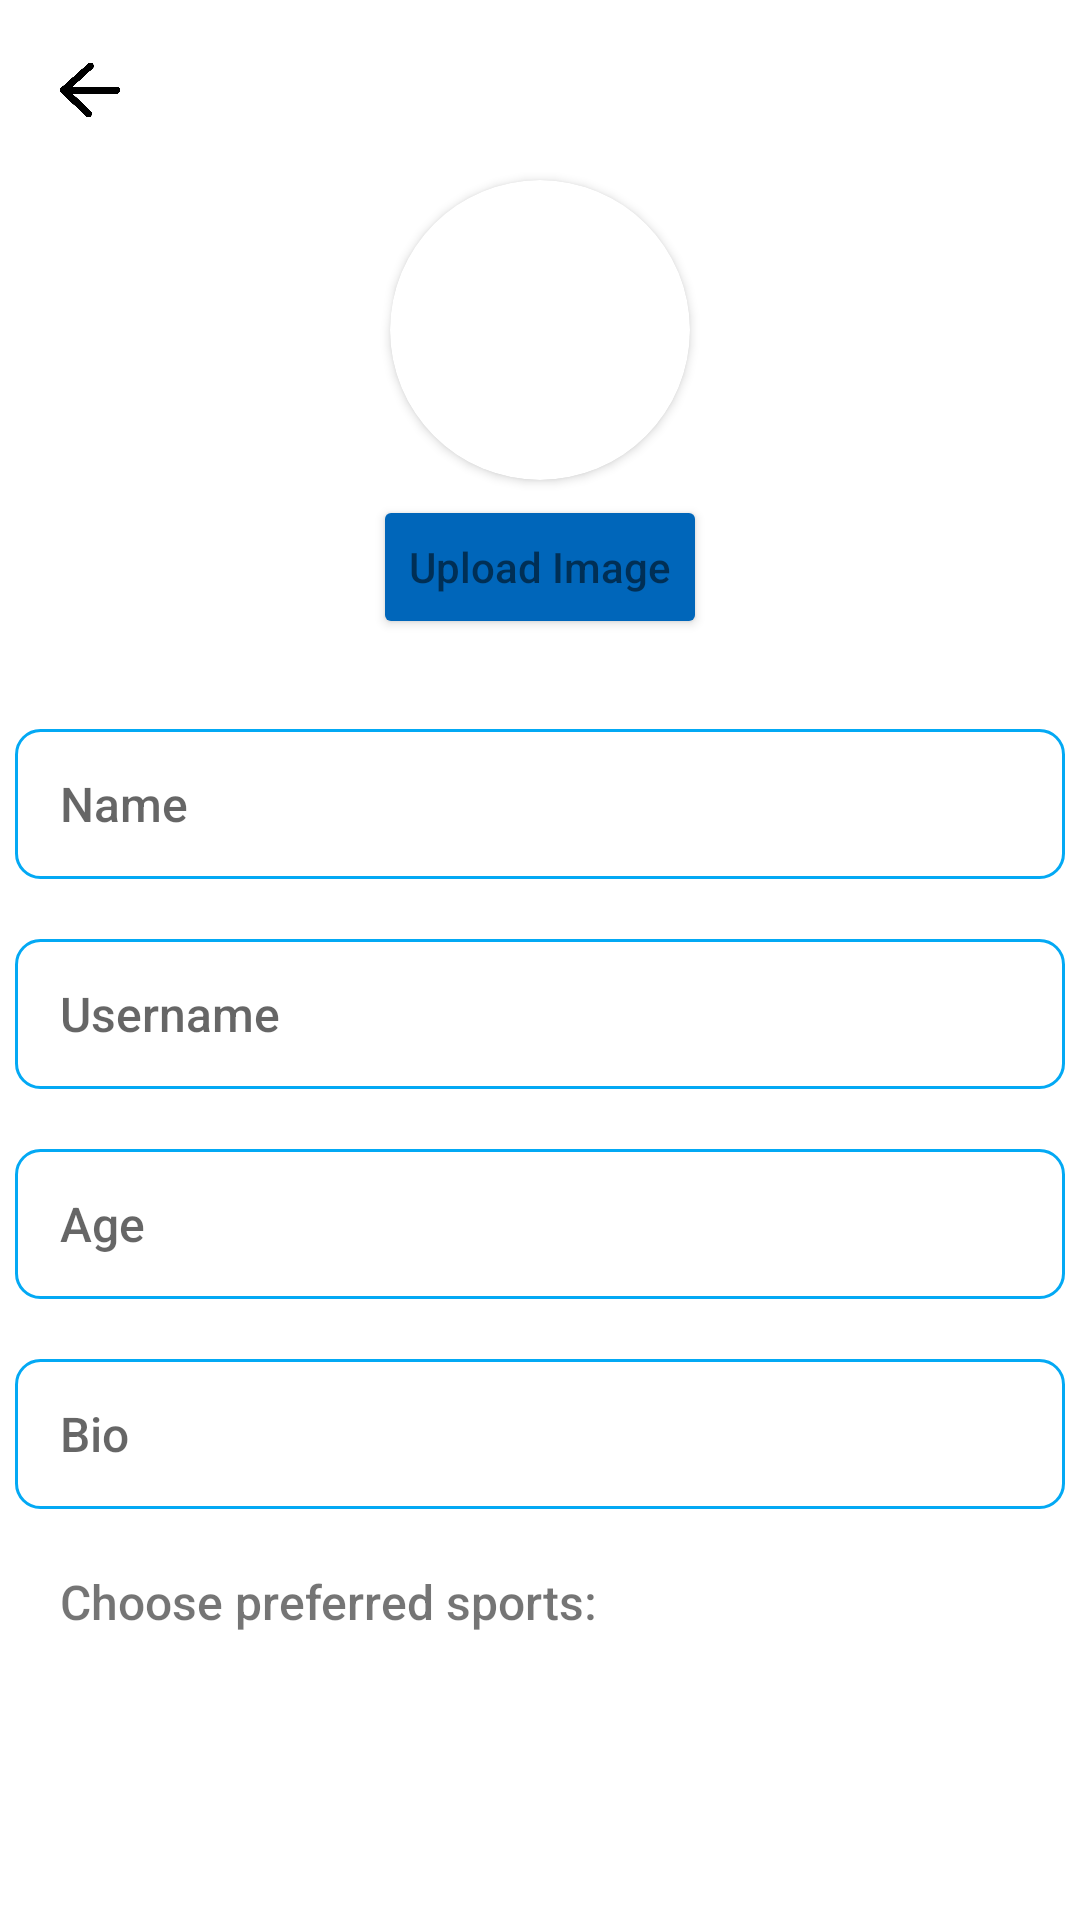

Icon bounding boxes for this 1080*1920 phone screenshot, format {"x1": x1, "y1": y1, "x2": x2, "y2": y2}:
back arrow: {"x1": 60, "y1": 63, "x2": 120, "y2": 117}
